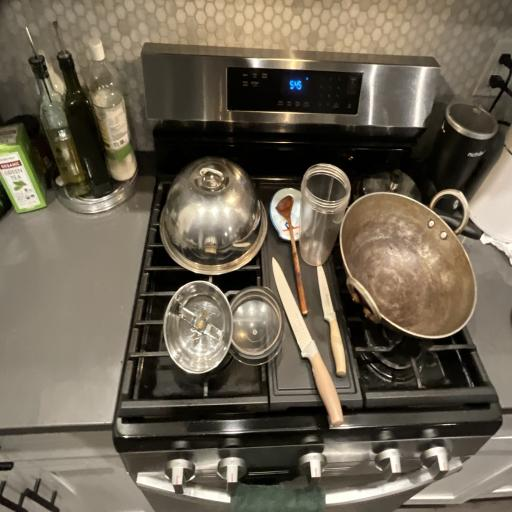Pan: (330, 175, 493, 354)
Stove: (102, 24, 498, 485)
knife: (268, 248, 350, 432), (310, 253, 356, 380)
